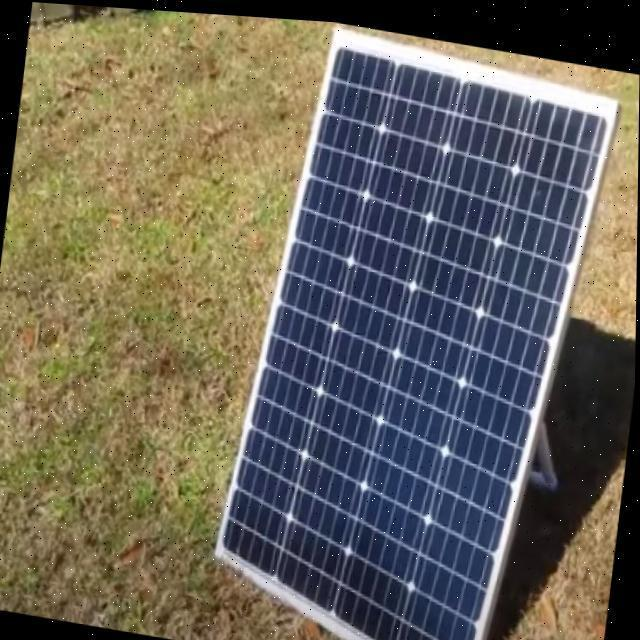Normal Solar Panel: (209, 14, 622, 640)
